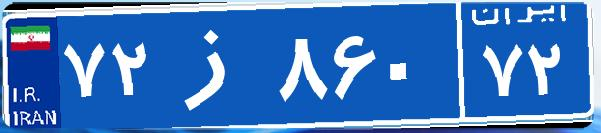0: (385, 28, 445, 110)
2: (110, 28, 158, 105), (525, 38, 570, 115)
6: (330, 28, 385, 110)
7: (57, 26, 110, 107), (475, 38, 525, 113)
8: (273, 28, 330, 110)
ز: (158, 15, 273, 115)
